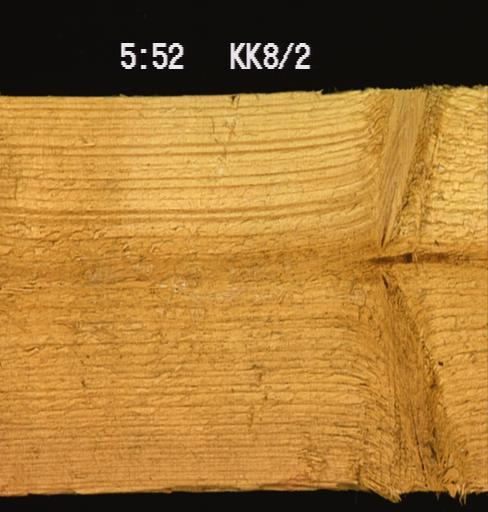wave: (160, 479, 359, 493)
